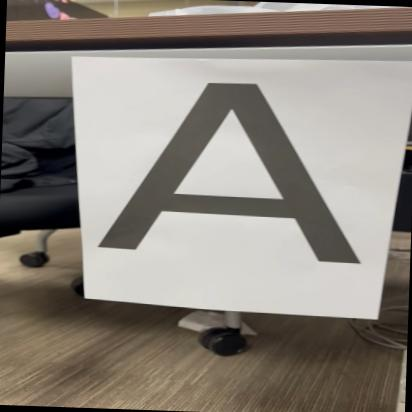seat: (101, 75, 377, 268)
